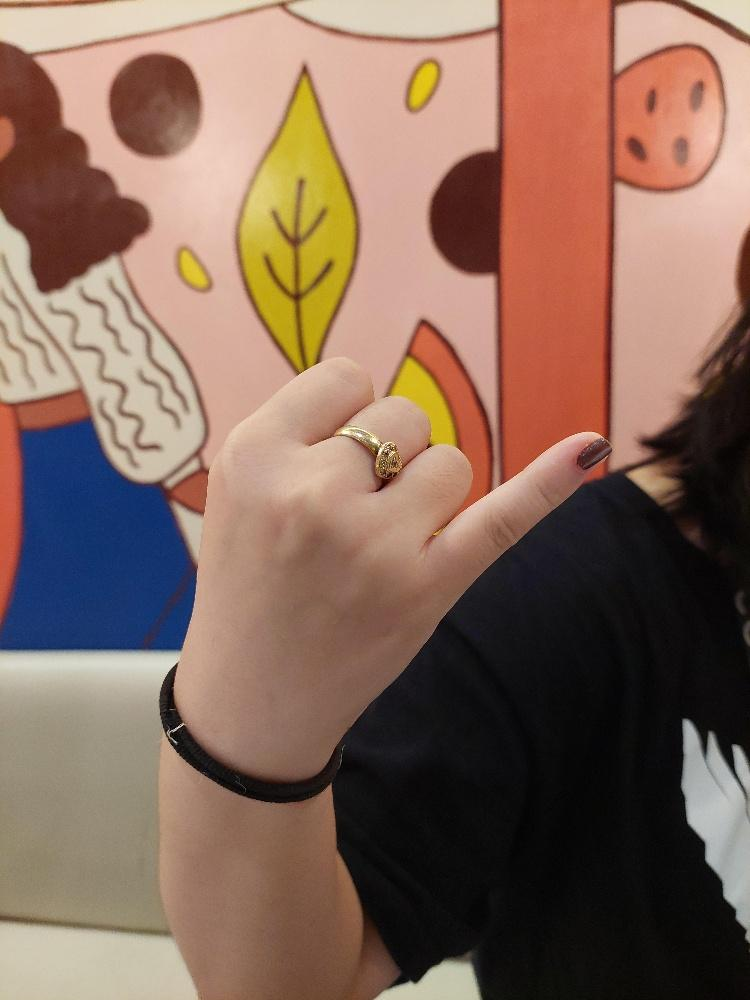j: (170, 351, 615, 751)
